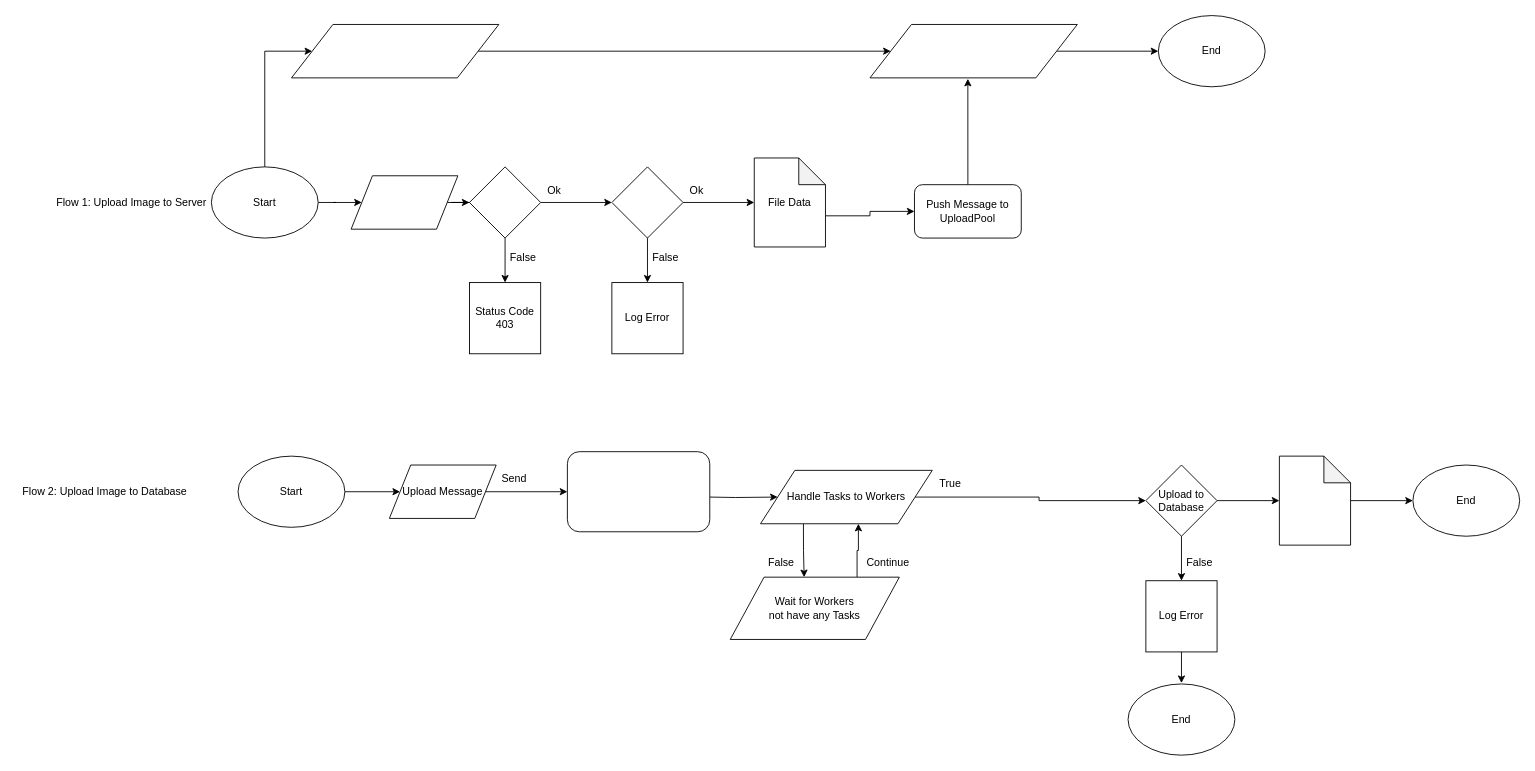
The diagram is 1535 pixels wide and 771 high, and some of its shapes have lost their labels. The centre of each missing label's shape, as x and y in pixels:
Authenciate: [505,202]
Http Request: [404,202]
Init Buffer Channel With n Workers on n Goroutines: [395,51]
Json Response: [1314,500]
Make a UploadPool where n Workers hanle Tasks: [973,51]
Read file: [647,202]
UploadPool Recieve Tasks: [638,491]
